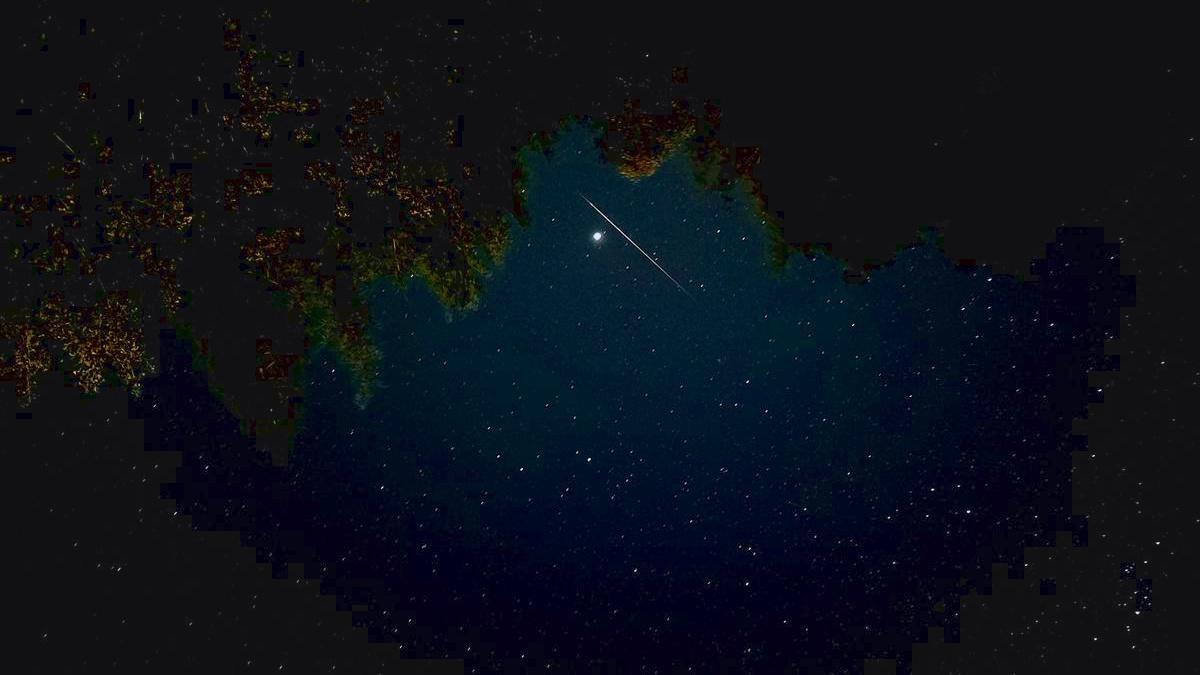meteorite: (577, 177, 729, 306)
